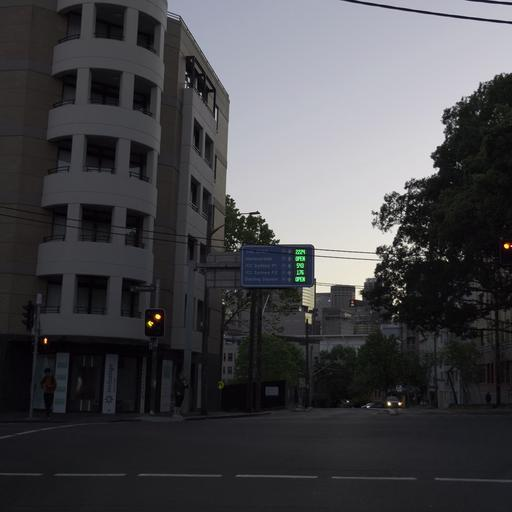Street light: (180, 209, 260, 414), (206, 209, 260, 245)
